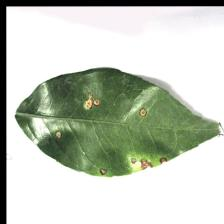canker: (45, 87, 171, 177)
